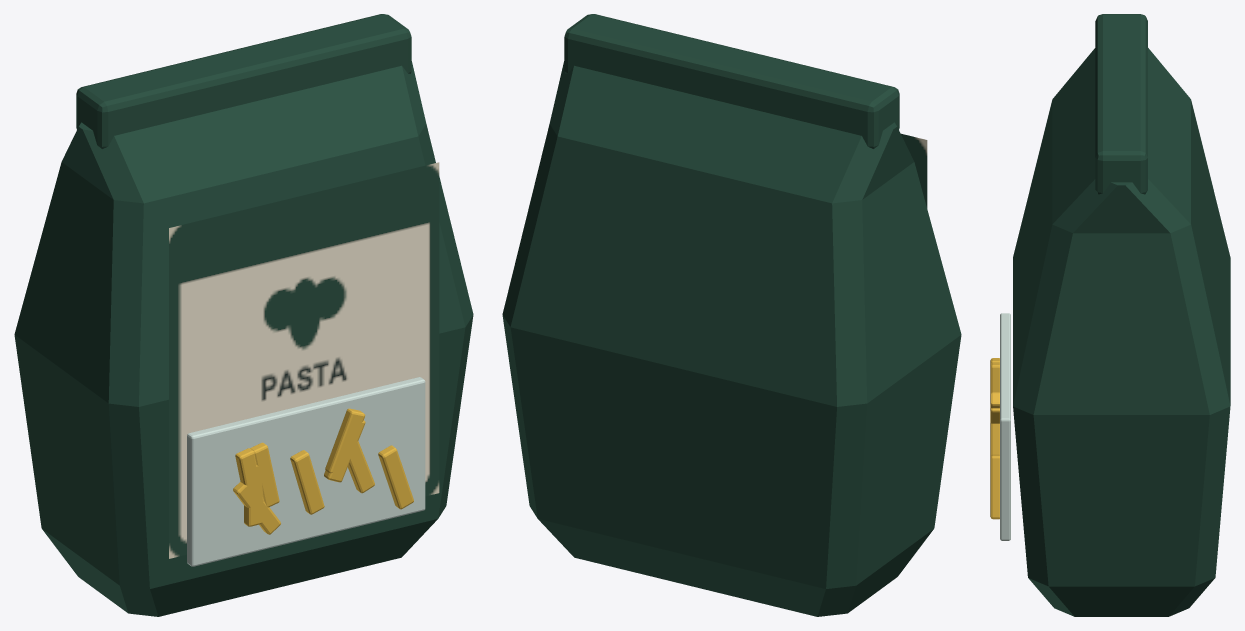
File: pasta.fbx
3 views of the same model, side by side, from view 1: azimuth 30°, elevation 25°; view 2: azimuth 150°, elevation 25°; view 3: azimuth 270°, elevation 25° (orthographic). The views are drawn at different scales.
Visible parts, largest first — view 1: pasta; view 2: pasta; view 3: pasta.
Part boxes in pixels (x1,y1,x2,y2): pasta: (14, 14, 473, 616); pasta: (502, 14, 961, 616); pasta: (990, 14, 1230, 616).
Size of the model in its own units: 21 by 27.67 by 12.8.
